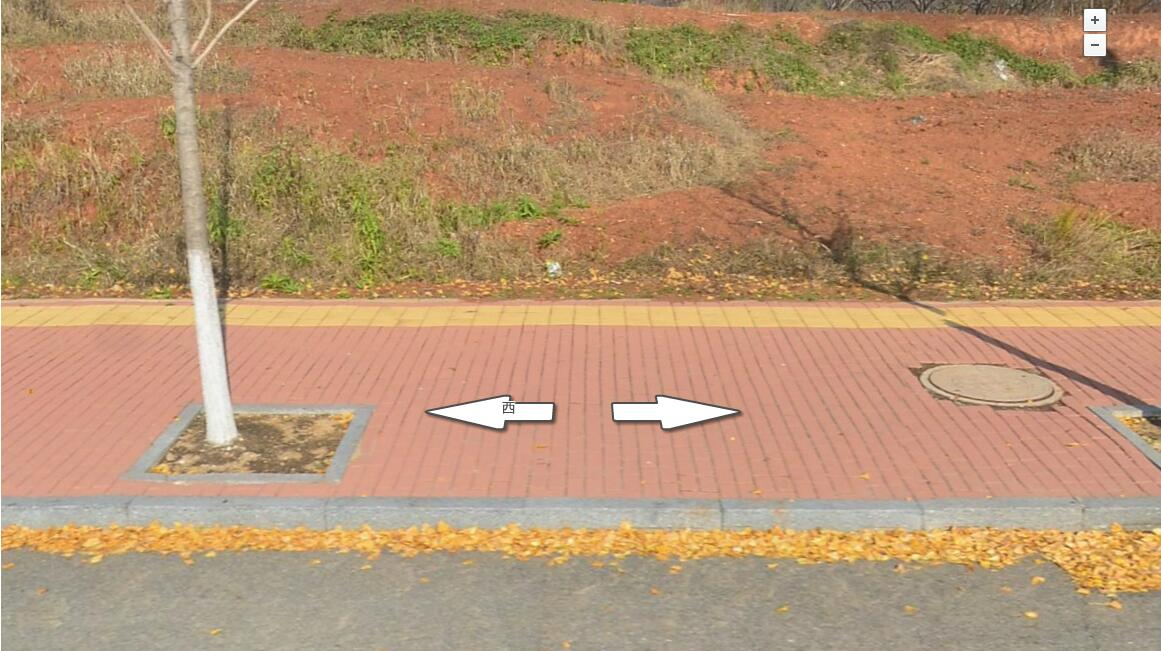side: (327, 493, 526, 533), (524, 496, 725, 533), (722, 501, 926, 537), (127, 493, 329, 529), (923, 501, 1086, 535)
